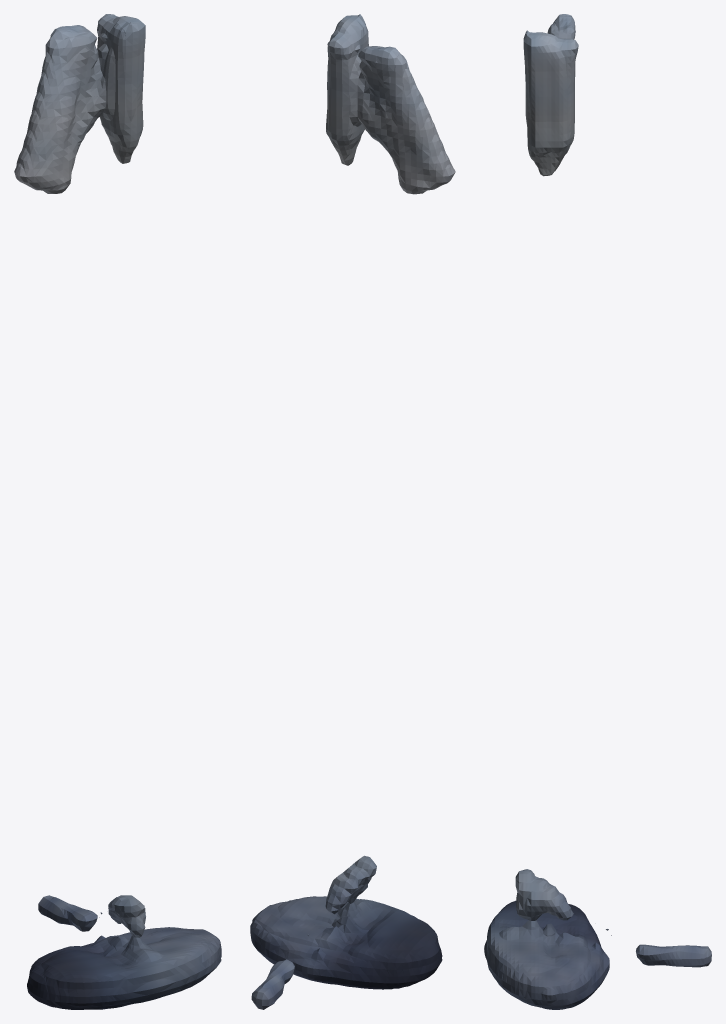
The model's file is lamp-001.glb.
3 renders of one model, left to right at view 1: azimuth 30°, elevation 25°; view 2: azimuth 150°, elevation 25°; view 3: azimuth 270°, elevation 25°, orthographic. The views are drawn at different scales.
Parts seen in each view (by area): view 1: geometry_0; view 2: geometry_0; view 3: geometry_0.
Part boxes in pixels (<box>): geometry_0: <box>14,14,221,1009</box>; geometry_0: <box>250,14,455,1009</box>; geometry_0: <box>484,14,711,1009</box>.
Bounding box in the file's own units: 35 × 160 × 35.
